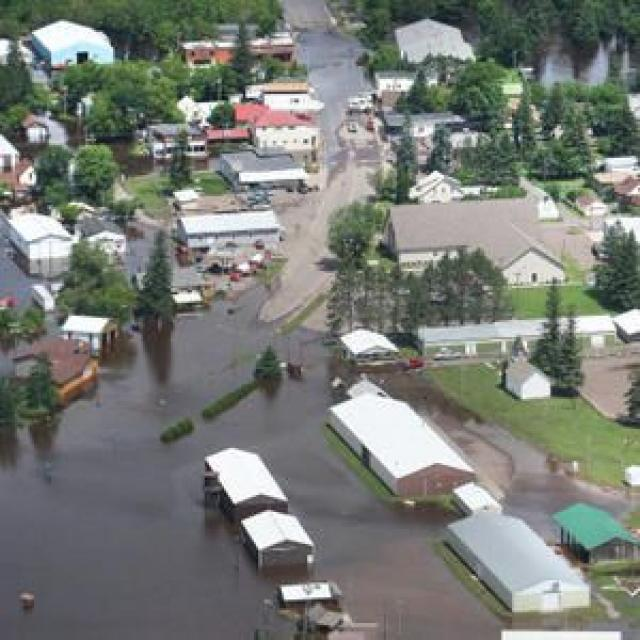flood: (0, 289, 502, 640), (299, 31, 372, 160), (0, 220, 49, 310), (128, 225, 158, 279)
house: (323, 376, 473, 509), (444, 510, 594, 624), (198, 442, 312, 561), (23, 18, 119, 88), (551, 496, 633, 570), (235, 506, 315, 578), (3, 207, 74, 280), (494, 228, 562, 284), (179, 211, 279, 249), (218, 152, 304, 189), (60, 308, 120, 361), (275, 581, 349, 623), (250, 113, 319, 152), (506, 359, 551, 403), (410, 170, 459, 206), (85, 221, 130, 251), (614, 304, 640, 344), (183, 41, 216, 68), (187, 126, 209, 162)
